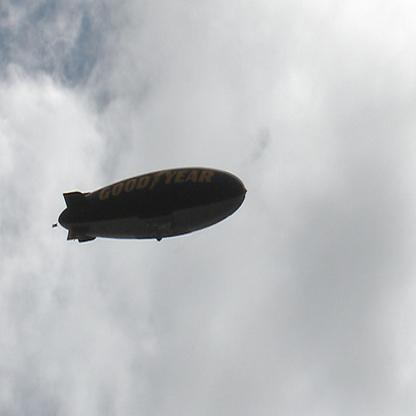Airship: (50, 166, 250, 250)
